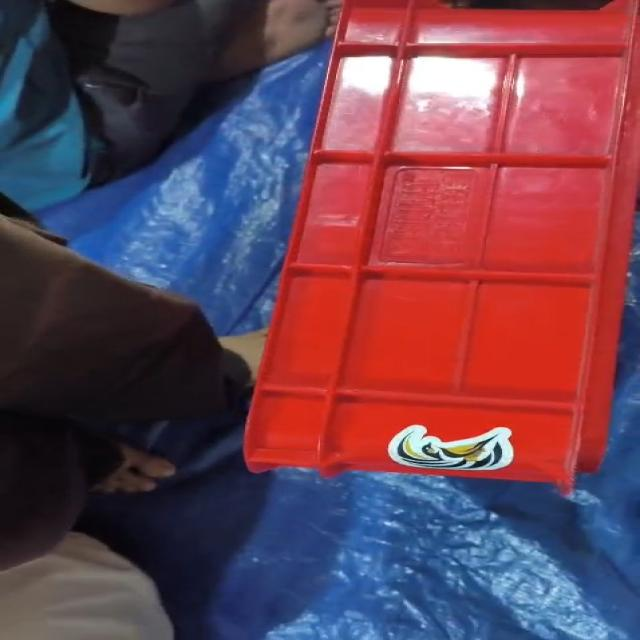red plastic box: (243, 0, 638, 498)
